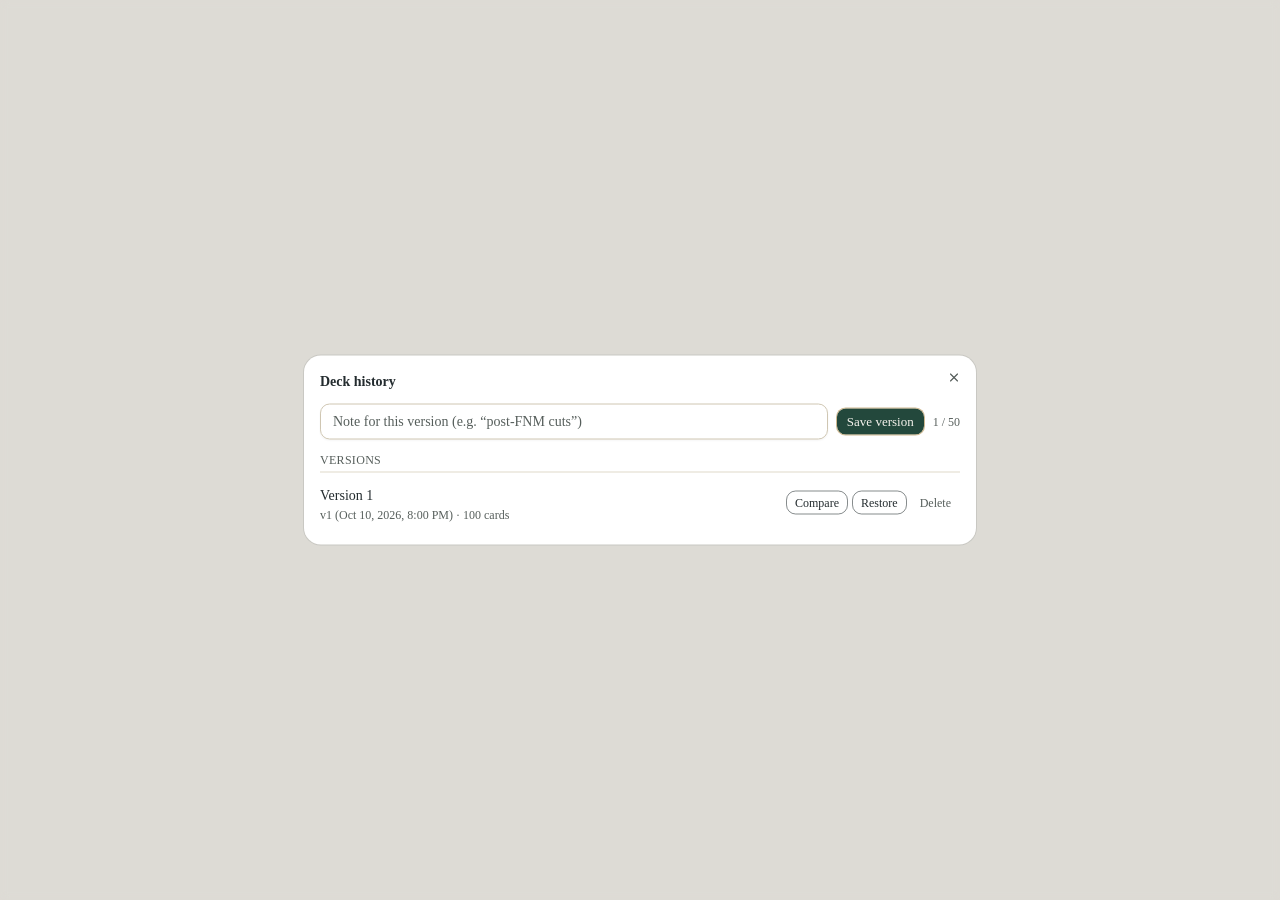
Scenario: HistoryDialog — Compare, Restore, Delete › a restore the route refuses (422) is said in its words, and nothing re-hydrates
Expected: the dialog "Deck history" shows "version 1", top-left (320, 488), bottom-right (373, 502)
Click the button "Restore" at (879, 502), box top-left (852, 490), bottom-right (907, 514)
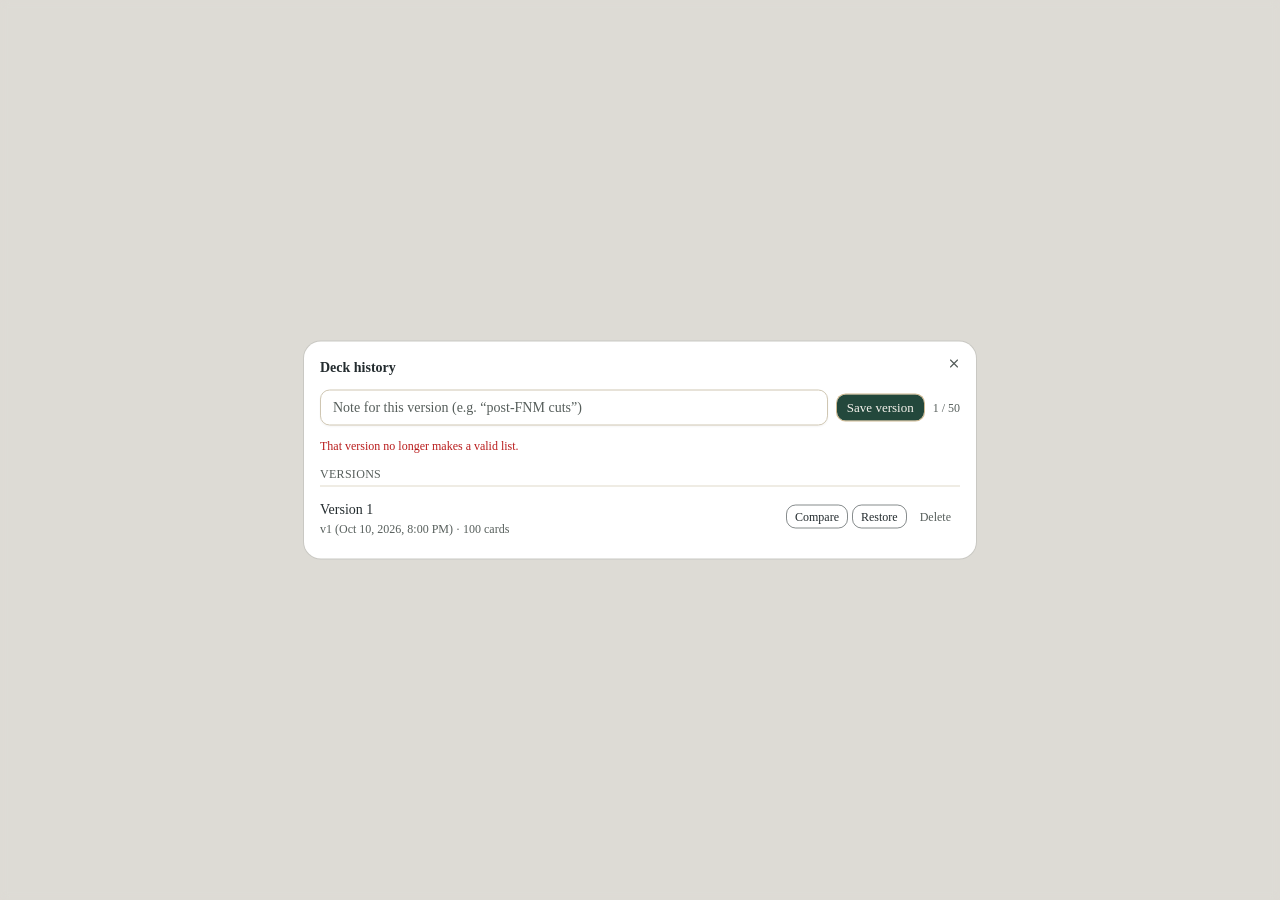
Expected: the dialog "Deck history" shows "That version no longer makes a valid list.", top-left (320, 438), bottom-right (519, 452)
